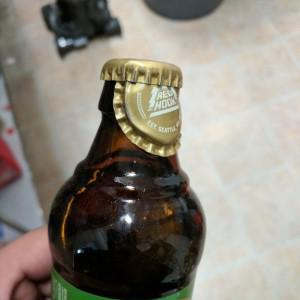beer: (48, 57, 206, 300)
